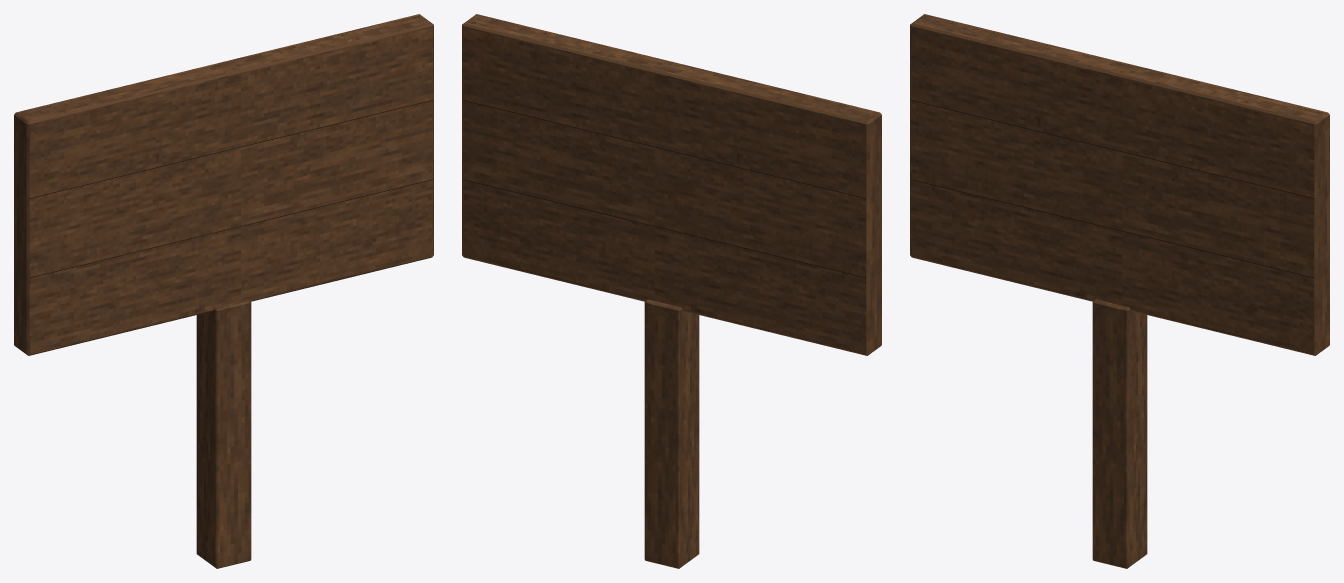
The model's file is signpost.fbx.
The picture shows the model from 3 angles, left to right: view 1: azimuth 30°, elevation 25°; view 2: azimuth 150°, elevation 25°; view 3: azimuth 330°, elevation 25°; orthographic projection.
Parts seen in each view (by area): view 1: signpost; view 2: signpost; view 3: signpost.
Boxes of the visible parts, x1,y1,x2,y2 form: signpost: [14, 14, 433, 568]; signpost: [462, 14, 881, 568]; signpost: [910, 14, 1329, 568].
Size of the model in its own units: 400 by 460 by 35.
1 material, 1 textured.
